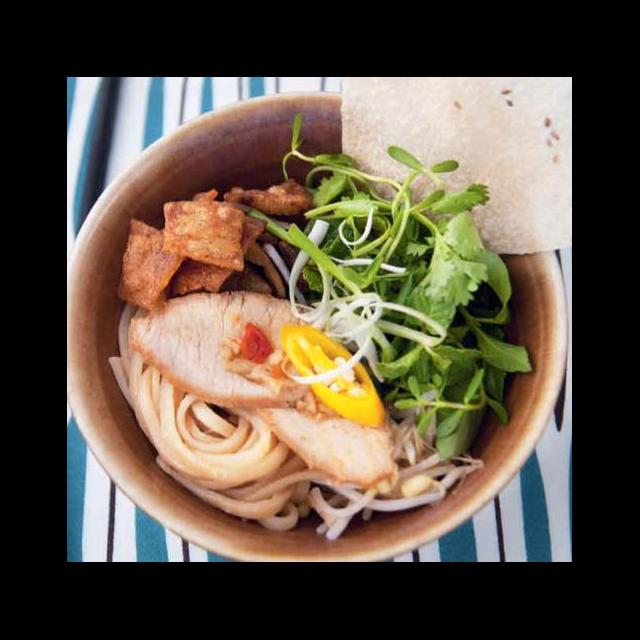banh da: (160, 208, 274, 302), (112, 215, 192, 316), (160, 196, 250, 276), (216, 178, 318, 222)
mi: (104, 350, 316, 532)
thit heo: (125, 286, 366, 422), (248, 358, 406, 496)
